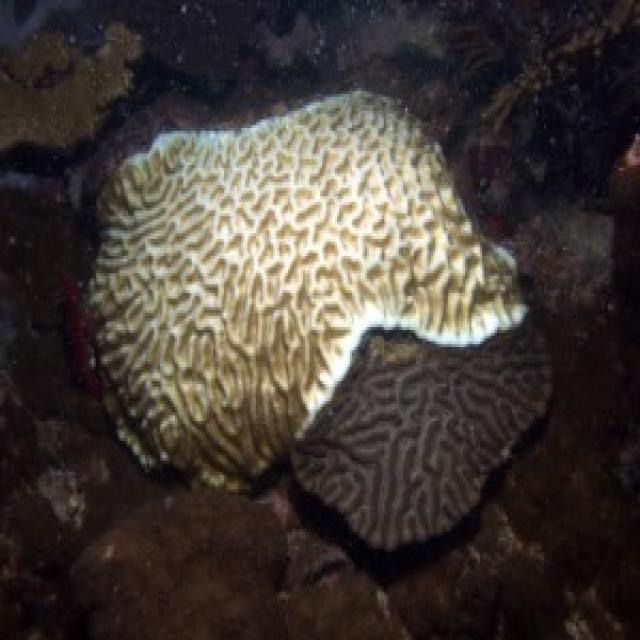Bleached: (96, 97, 528, 335)
Healthy: (294, 303, 571, 553)
